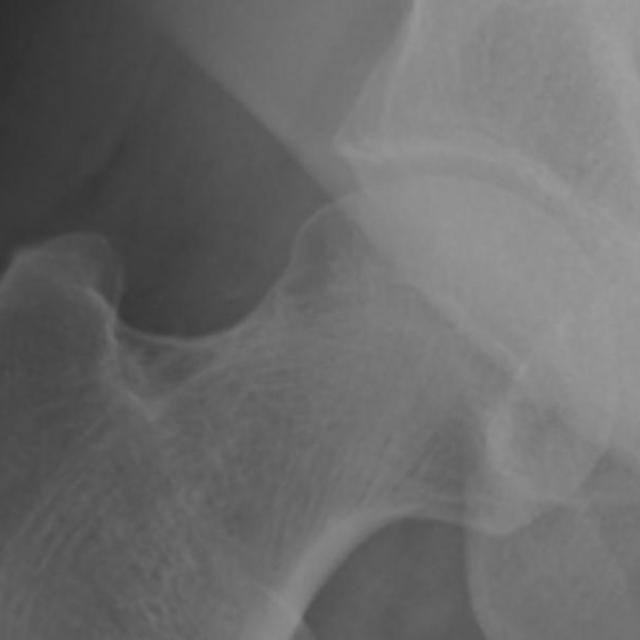Fitted_femural_head: (379, 173, 432, 379)
